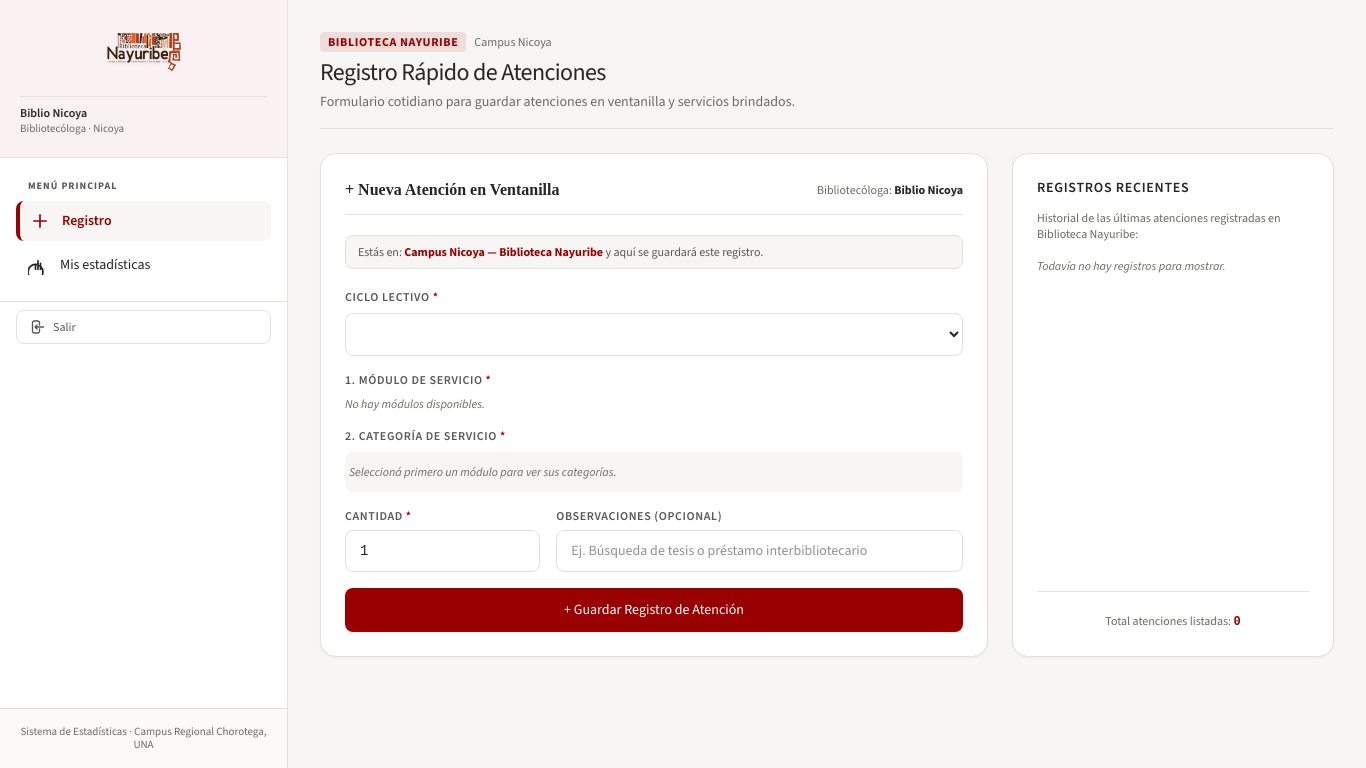
Scenario: App cambio de campus y salida › Salir lleva al inicio sin cerrar la sesión (bibliotecóloga)
This screenshot has width=1366, height=768.
Click the button "Salir".
click(144, 327)  # box [16,310,271,344]
(page scrolled)
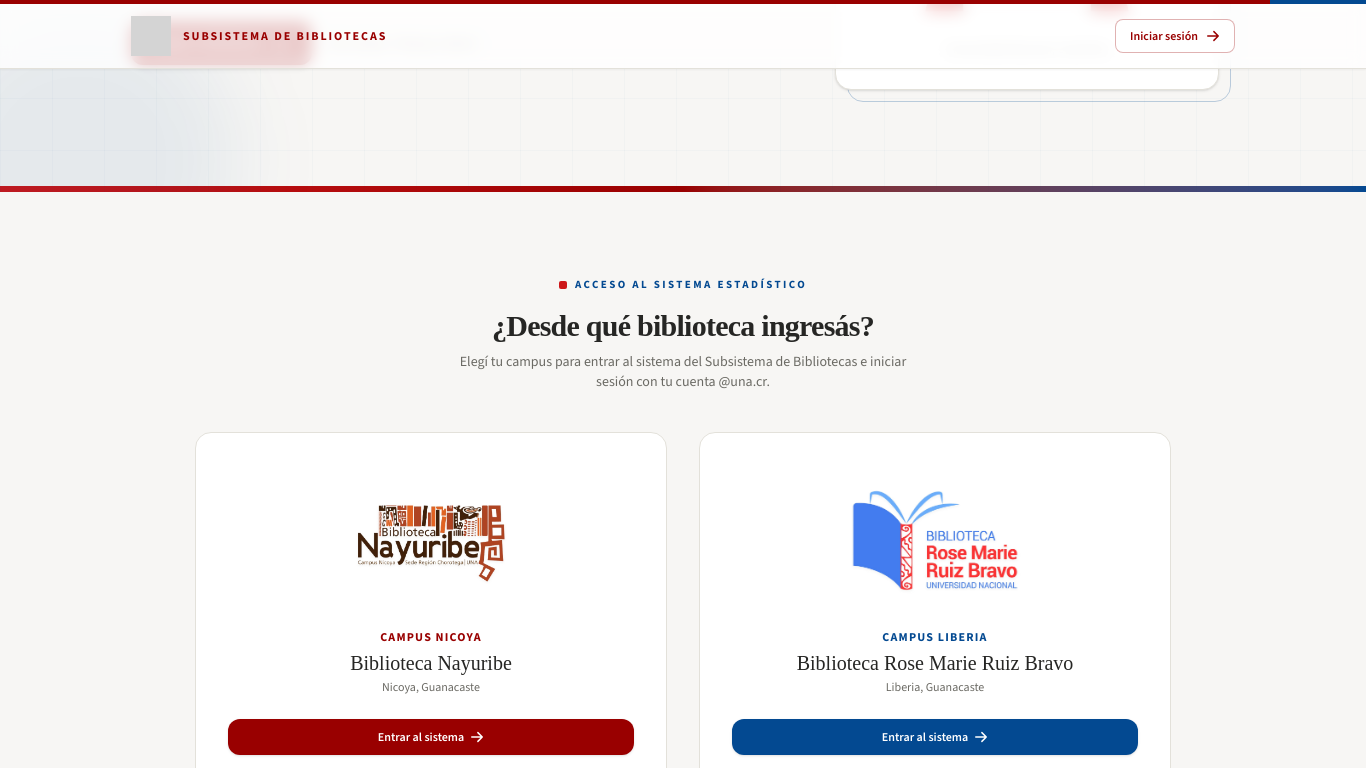
Now the heading "¿Desde qué biblioteca ingresás?" is shown, box [492,309,874,342]
